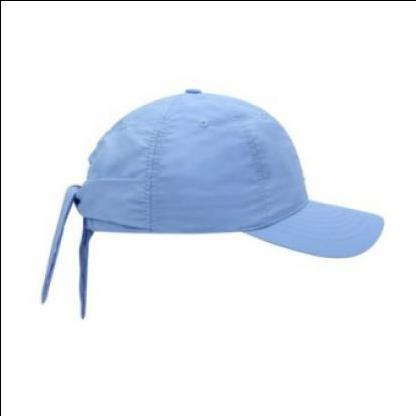cap: (34, 80, 396, 272)
